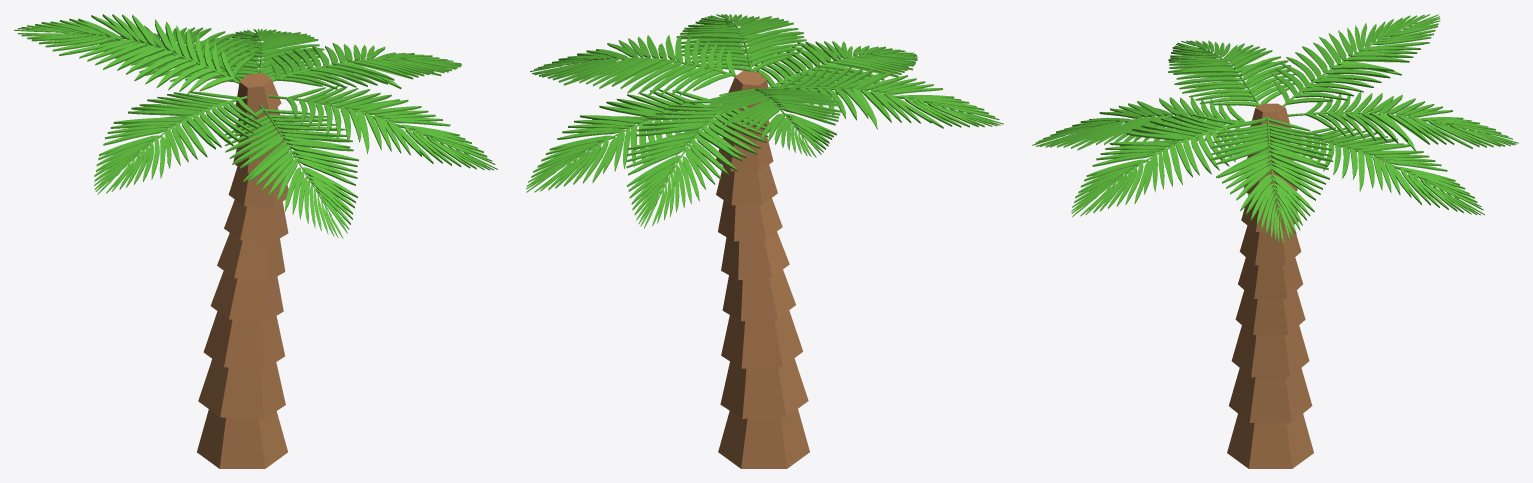
File: PALMEIRA #1.fbx
The picture shows the model from 3 angles, left to right: view 1: azimuth 30°, elevation 25°; view 2: azimuth 150°, elevation 25°; view 3: azimuth 270°, elevation 25°; orthographic projection. The views are drawn at different scales.
Parts seen in each view (by area): view 1: Tronco, Folha.005, Folha.001, Folha.002, Folha.003, Folha, Folha.004, Folha.006; view 2: Tronco, Folha.006, Folha, Folha.004, Folha.001, Folha.002, Folha.003, Folha.005; view 3: Tronco, Folha, Folha.003, Folha.002, Folha.004, Folha.001, Folha.006, Folha.005.
Boxes of the visible parts, box(x1,y1,x2,y2) form: Tronco: box(197, 73, 288, 468); Folha.005: box(224, 105, 358, 238); Folha.001: box(94, 91, 261, 194); Folha.002: box(14, 14, 239, 94); Folha.003: box(268, 85, 497, 170); Folha: box(271, 43, 461, 89); Folha.004: box(209, 29, 324, 82); Folha.006: box(99, 27, 258, 81); Tronco: box(716, 71, 809, 468); Folha.006: box(626, 100, 769, 228); Folha: box(530, 35, 736, 95); Folha.004: box(526, 89, 724, 192); Folha.001: box(767, 67, 1003, 129); Folha.002: box(709, 88, 842, 157); Folha.003: box(676, 14, 806, 71); Folha.005: box(750, 41, 917, 94); Tronco: box(1227, 103, 1313, 468); Folha: box(1210, 116, 1333, 245); Folha.003: box(1071, 114, 1254, 216); Folha.002: box(1271, 14, 1440, 106); Folha.004: box(1287, 127, 1484, 215); Folha.001: box(1168, 40, 1295, 106); Folha.006: box(1287, 92, 1518, 151); Folha.005: box(1032, 97, 1245, 150).
Size of the model in its own units: 1054 by 955 by 1116.
